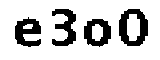0: (116, 4, 149, 50)
3: (49, 6, 80, 52)
e: (10, 15, 44, 48)
o: (83, 17, 113, 49)
